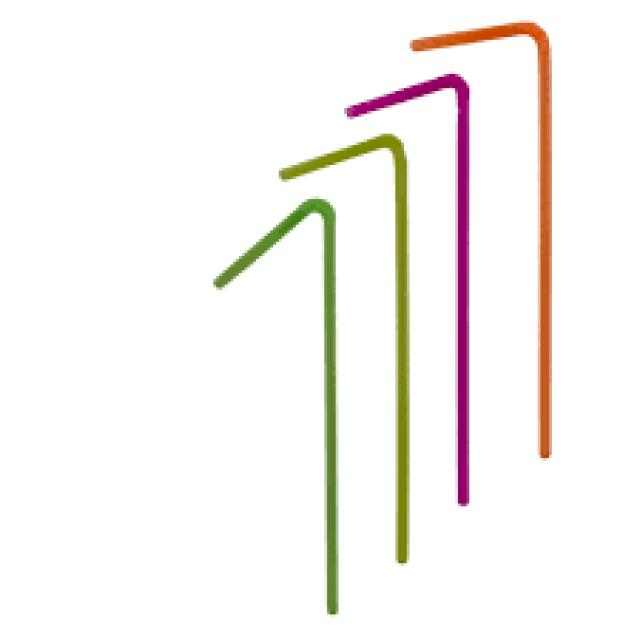straw: (413, 22, 549, 457), (279, 134, 408, 562), (346, 74, 469, 504), (214, 199, 336, 613)
